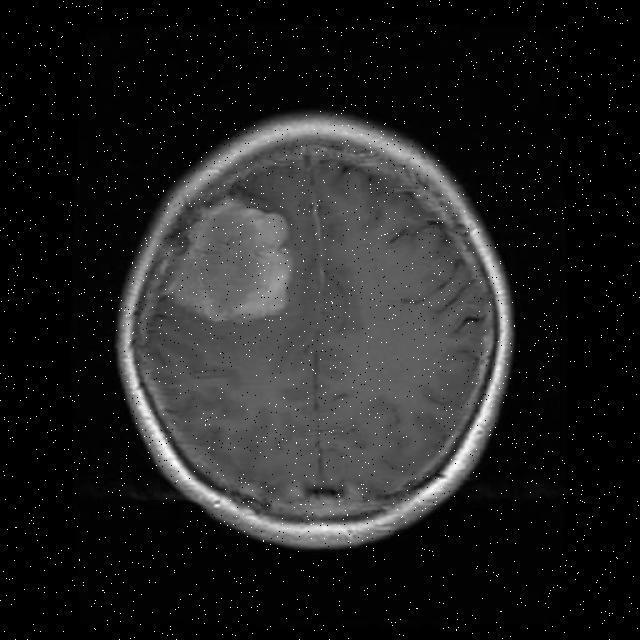Meningioma: (166, 200, 291, 321)
